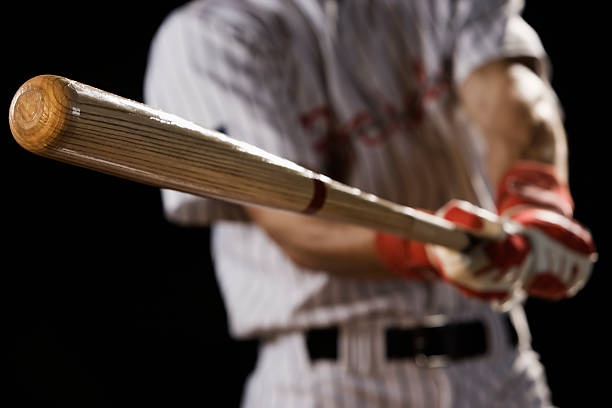bita: (13, 75, 518, 265)
